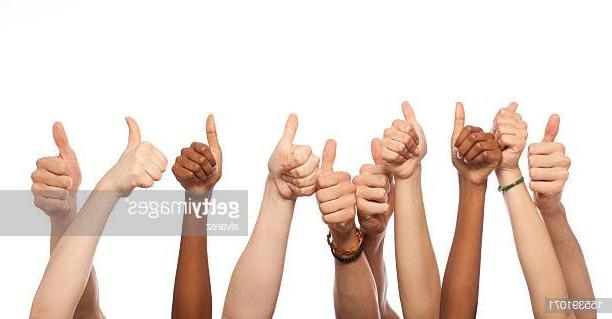thumbsup: (31, 122, 76, 211), (276, 113, 319, 197), (172, 113, 221, 185), (528, 113, 572, 193), (316, 139, 357, 224), (451, 101, 502, 169), (125, 116, 169, 188), (378, 100, 425, 165), (354, 138, 392, 213)
